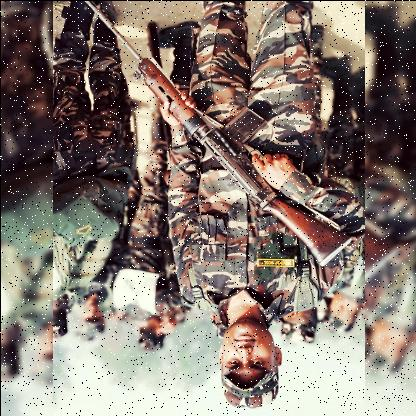rifle: (83, 0, 354, 268)
